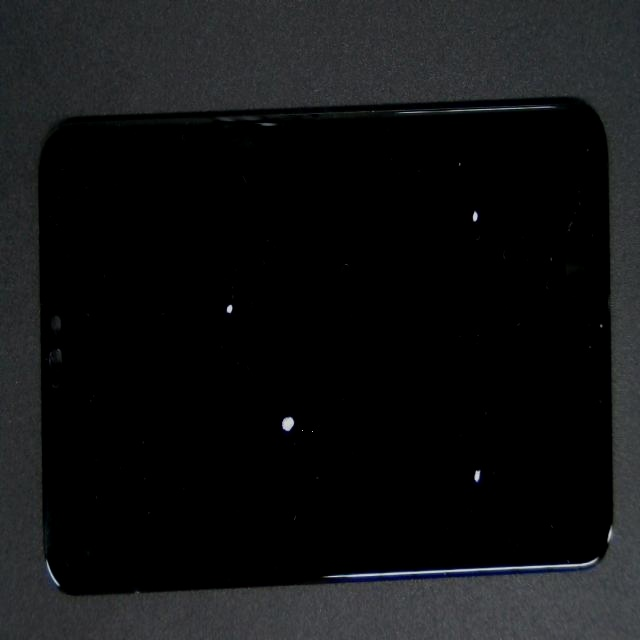stain: (220, 253, 640, 640), (124, 182, 411, 640), (224, 107, 640, 359), (109, 118, 331, 467)
